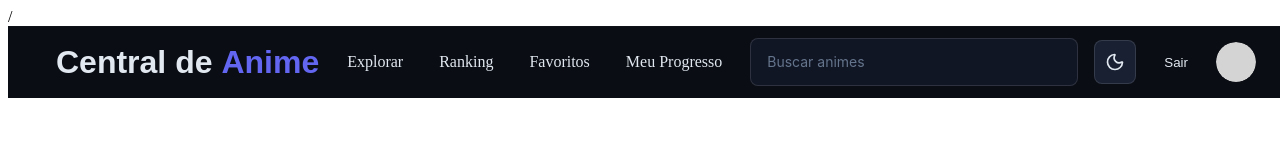
Test: Header auth session integration › limpa a sessão e redireciona mesmo se o logout remoto falhar
Click the button "Sair".
click(1176, 62)  # box left=1156, top=49, right=1196, bottom=75
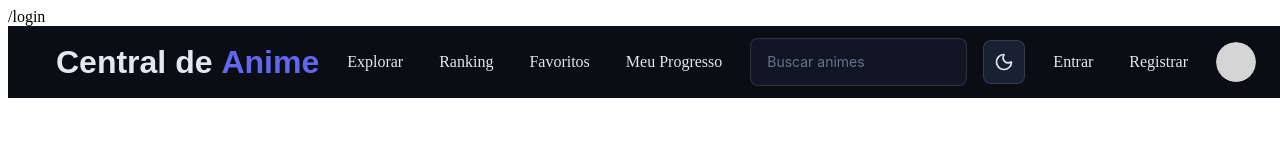
Expected: the text with test id "current-path" reads "/login", left=8, top=8, right=45, bottom=25
Expected: the link "Entrar" is shown, left=1053, top=53, right=1093, bottom=70
